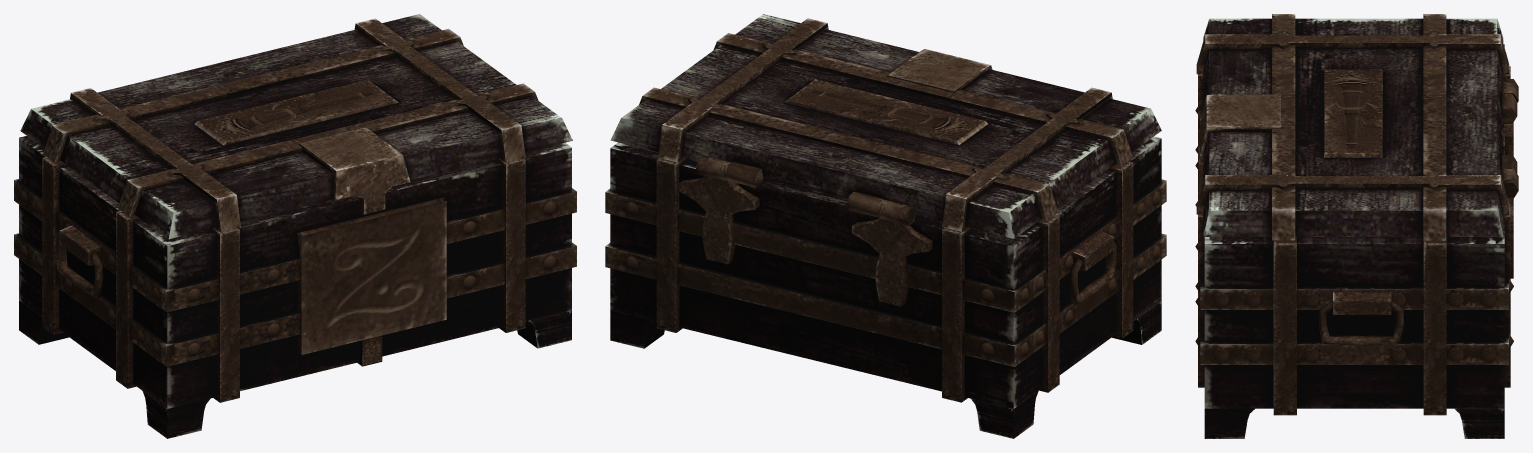
The model's file is treasure_chest_old.dae.
3 renders of one model, left to right at view 1: azimuth 30°, elevation 25°; view 2: azimuth 150°, elevation 25°; view 3: azimuth 270°, elevation 25°, orthographic.
Visible parts, largest first — view 1: chest, lid; view 2: chest, lid; view 3: lid, chest.
Part boxes in pixels (x1,y1,x2,y2): chest: [14, 136, 576, 438]; lid: [20, 14, 572, 239]; chest: [605, 136, 1166, 438]; lid: [610, 14, 1161, 238]; lid: [1196, 14, 1517, 240]; chest: [1195, 44, 1518, 438].
Size of the model in its own units: 1.44 by 0.7144 by 0.9119.
